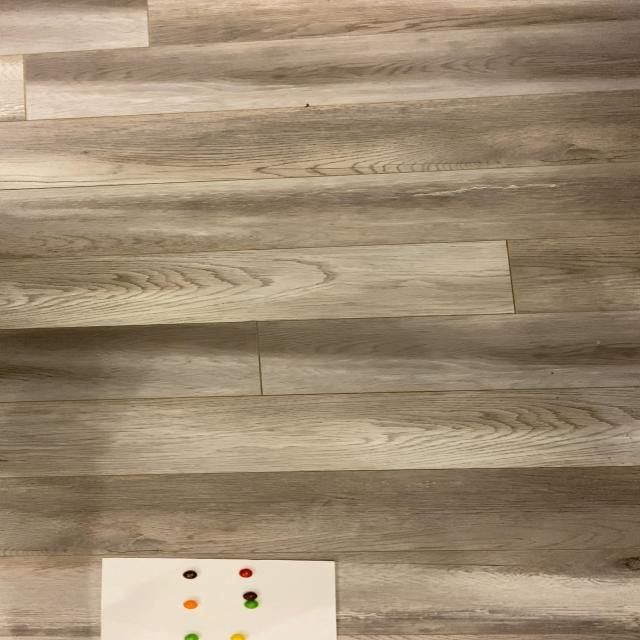smartie: (183, 601, 198, 611), (242, 592, 257, 601), (244, 600, 259, 609), (238, 569, 253, 578), (183, 570, 197, 579), (229, 635, 245, 640), (183, 635, 198, 640)
